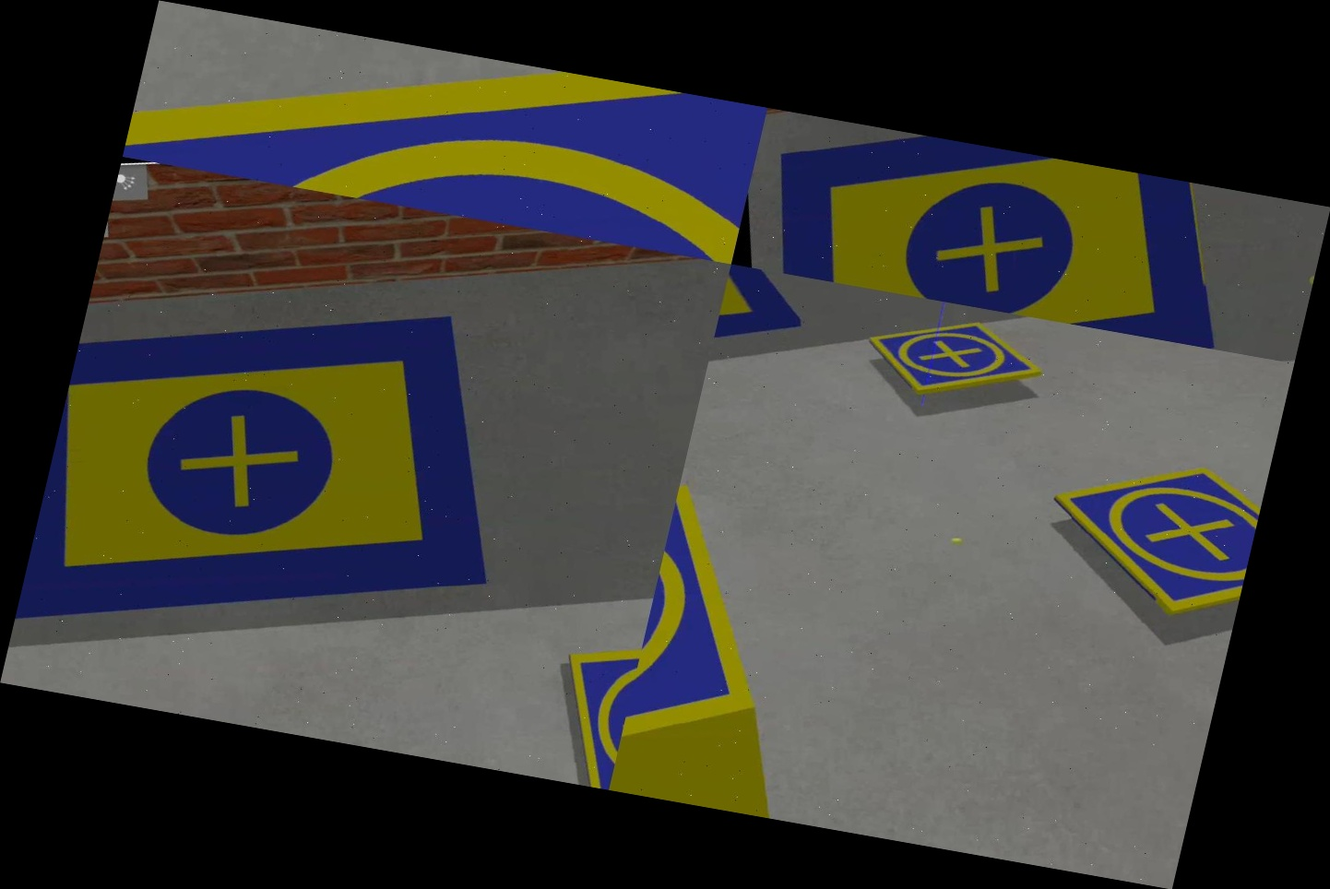large_base: (15, 248, 555, 701), (730, 108, 1265, 352), (695, 264, 824, 435)
small_base: (123, 0, 767, 264), (609, 472, 830, 815), (1023, 415, 1273, 647), (853, 294, 1060, 429), (537, 605, 648, 789)
